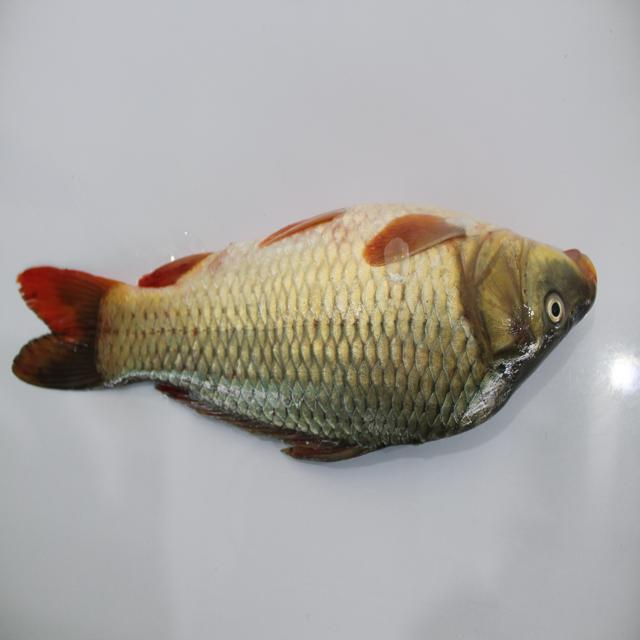CommonCarp: (15, 196, 618, 477)
